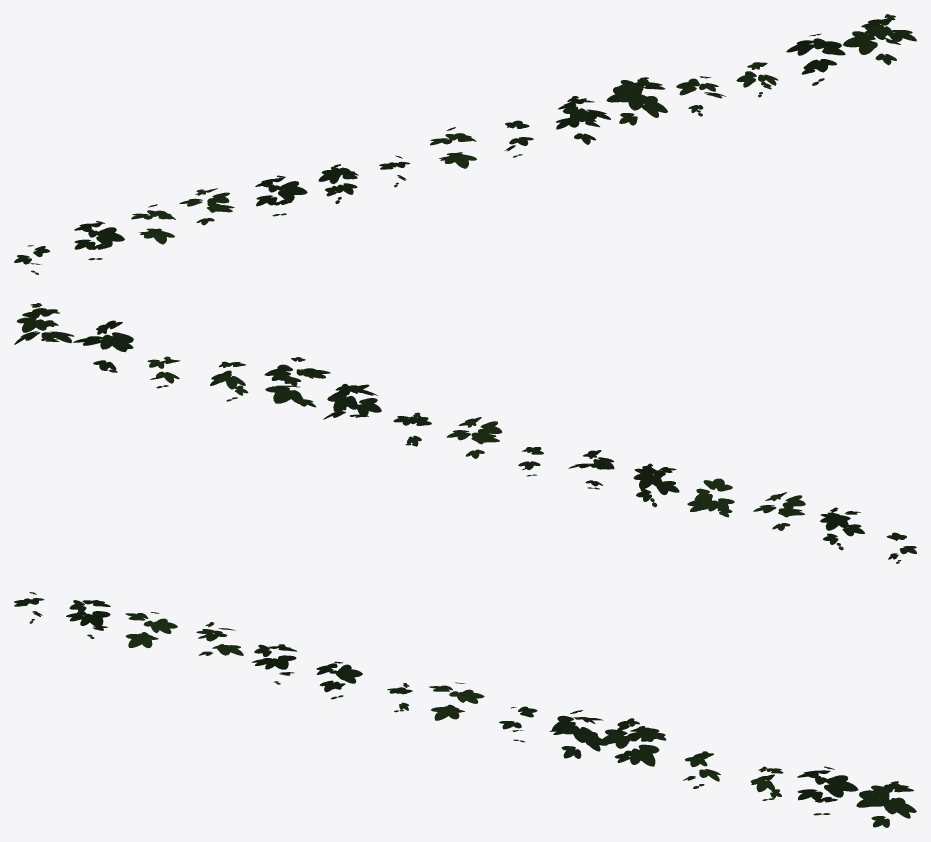
The model's file is ROW_22_SEG2_foliage.dae.
The picture shows the model from 3 angles, top to bottom: view 1: azimuth 30°, elevation 25°; view 2: azimuth 150°, elevation 25°; view 3: azimuth 330°, elevation 25°; orthographic projection.
Parts seen in each view (by area): view 1: ROW_22_SEG2_foliage; view 2: ROW_22_SEG2_foliage; view 3: ROW_22_SEG2_foliage.
Boxes of the visible parts, x1,y1,x2,y2 form: ROW_22_SEG2_foliage: [14, 14, 916, 274]; ROW_22_SEG2_foliage: [14, 303, 916, 563]; ROW_22_SEG2_foliage: [14, 592, 916, 827].
Bounding box in the file's own units: 4.5 × 0.3247 × 0.2556.
